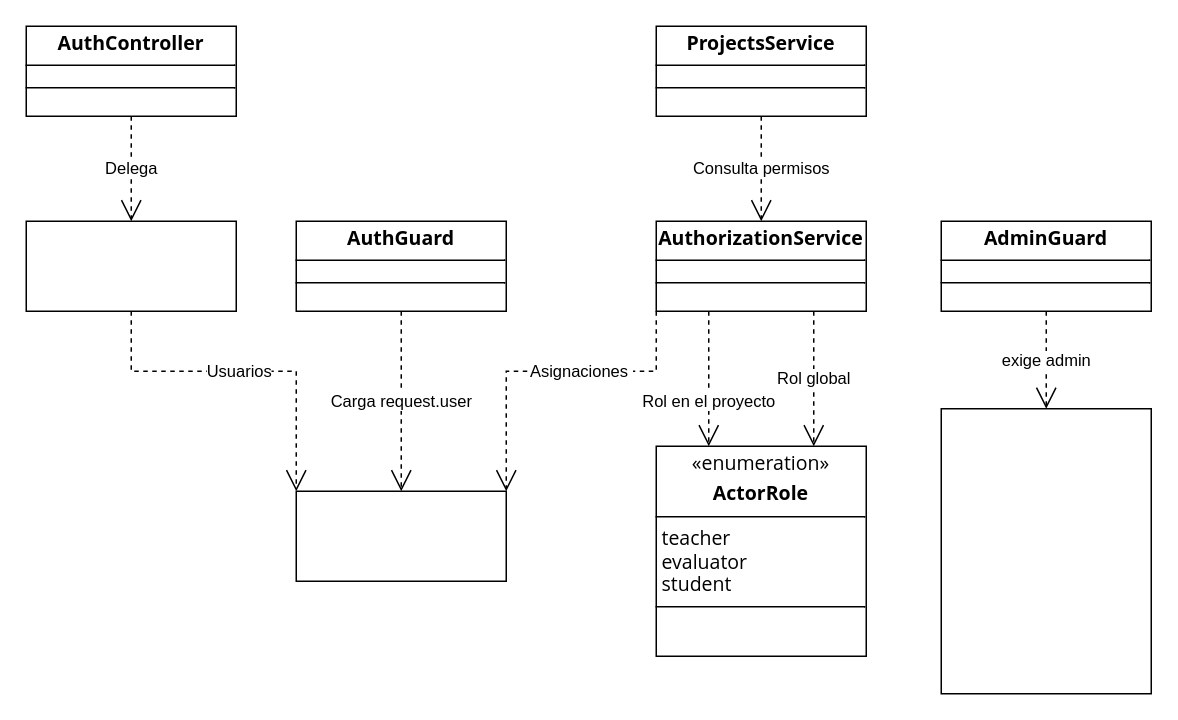
Some shapes in this 1178 by 720 pixel diagram are drawn without their labels. Here are the shapes that lost their labels. From the top down, the box of each, then its label:
(25, 220, 236, 311): AuthService
(295, 490, 506, 581): PrismaService
(940, 407, 1151, 694): «enumeration» UserRole admin directivo evaluator teacher proposer student
